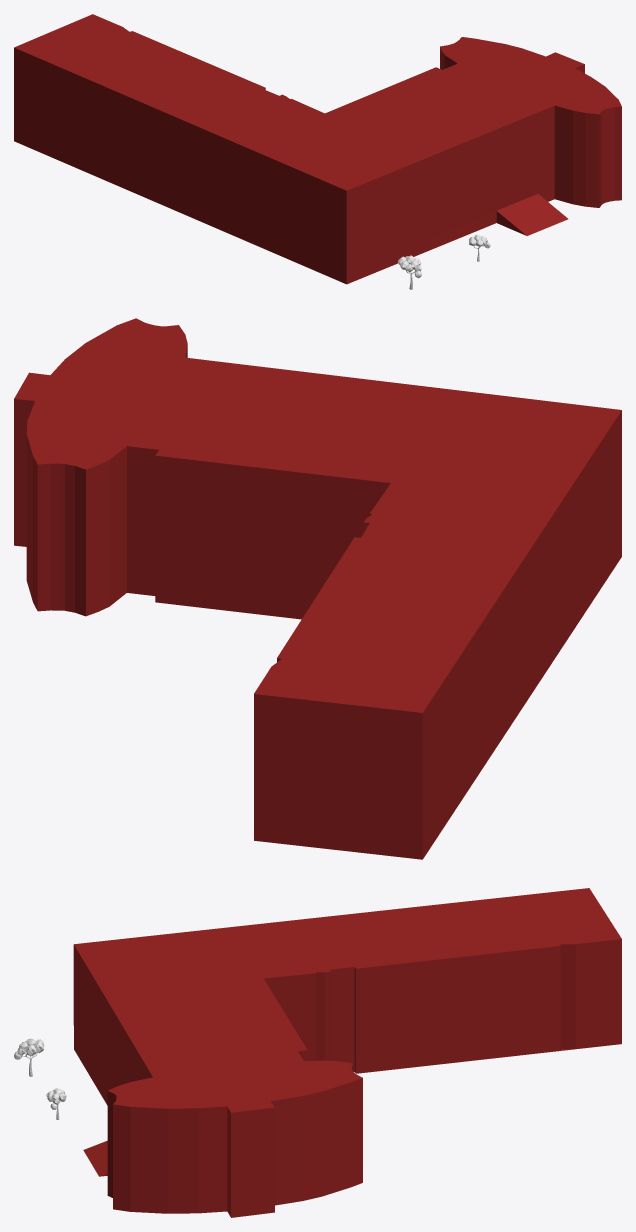
The picture shows the model from 3 angles, top to bottom: view 1: azimuth 30°, elevation 25°; view 2: azimuth 150°, elevation 25°; view 3: azimuth 270°, elevation 25°; orthographic projection. The views are drawn at different scales.
Parts seen in each view (by area): view 1: Bâtiment L, Tree3; view 2: Bâtiment L; view 3: Bâtiment L, Tree3.
Boxes of the visible parts, box(x1,y1,x2,y2) form: Bâtiment L: box(14, 14, 621, 284); Tree3: box(398, 255, 421, 289); Bâtiment L: box(14, 318, 621, 859); Bâtiment L: box(73, 888, 621, 1217); Tree3: box(14, 1038, 44, 1076).
Size of the model in its own units: 78.21 by 17.4 by 89.35.
